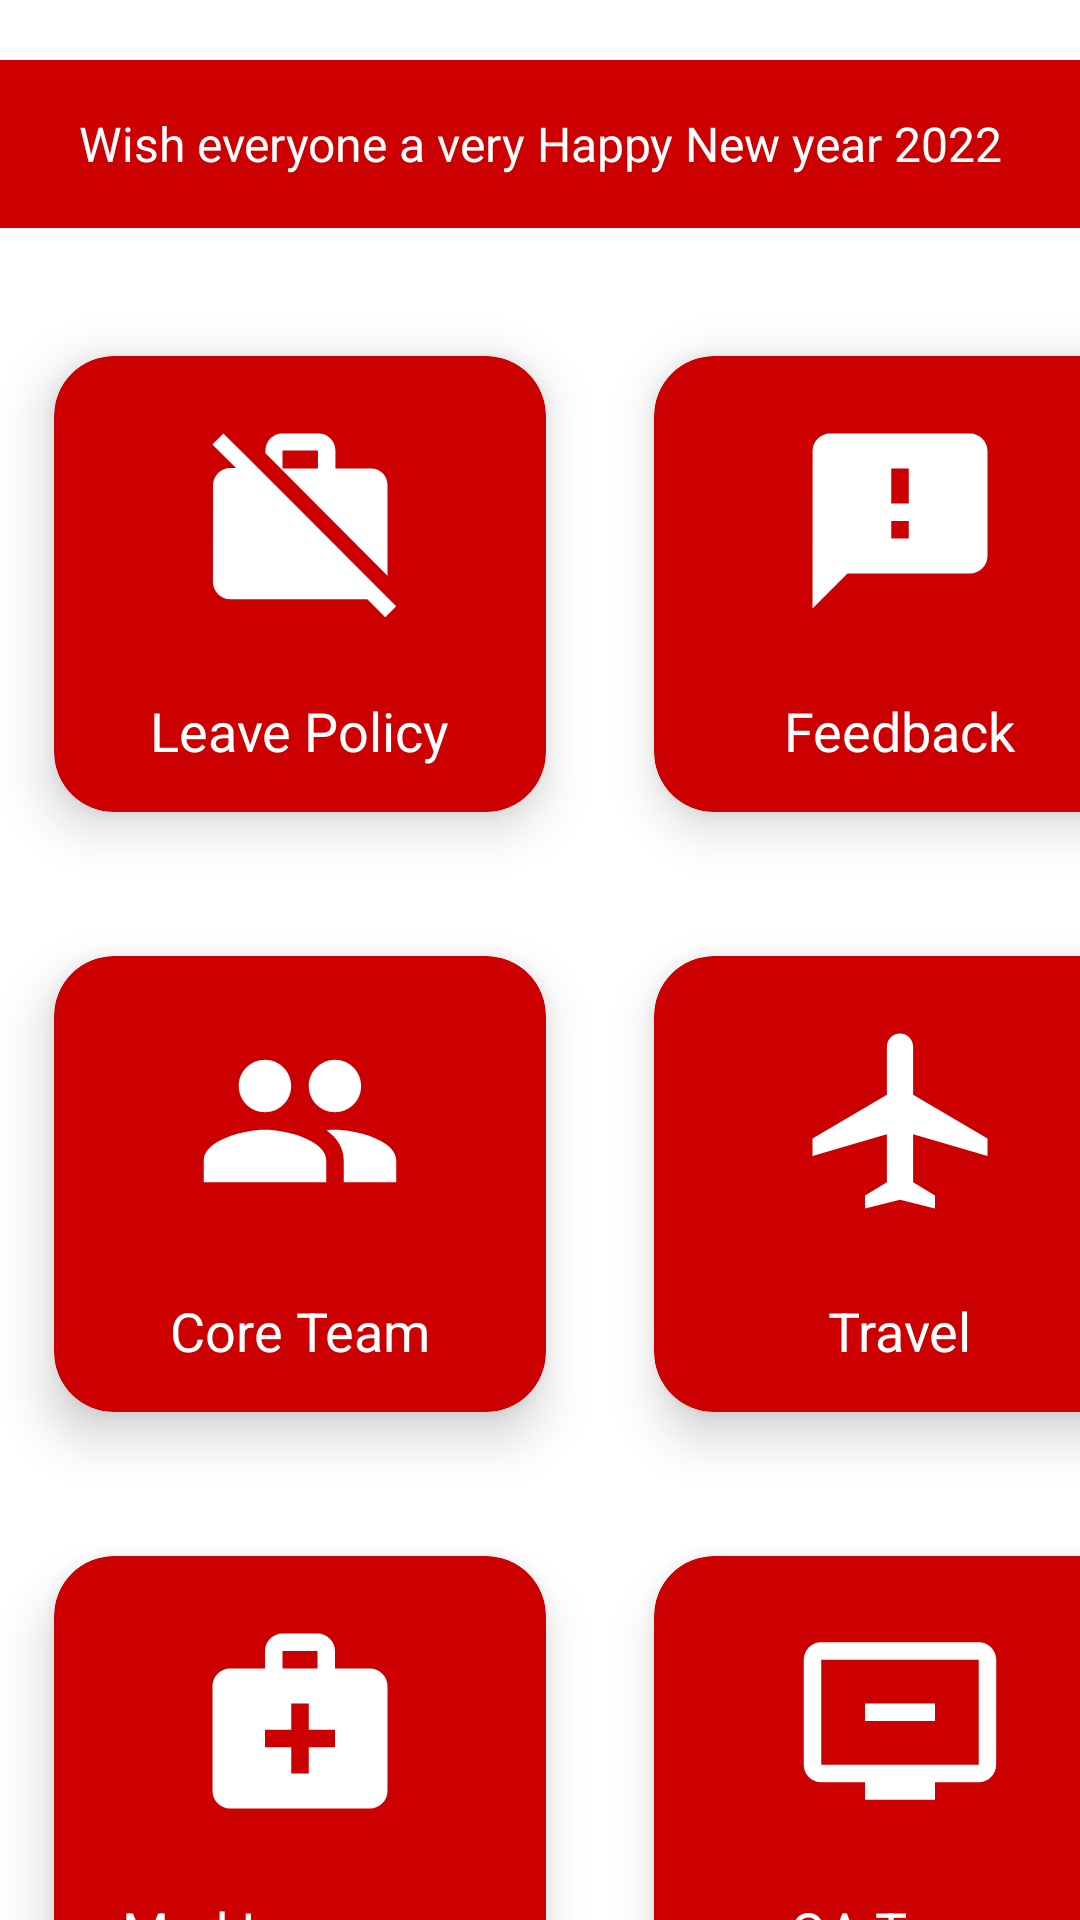

Icons on this 1080 × 1920 Android screen, each with the point to tap as point (x, y):
airplanemode: point (900, 1121)
medical services: point (300, 1721)
remove from queue: point (900, 1721)
work off: point (304, 525)
